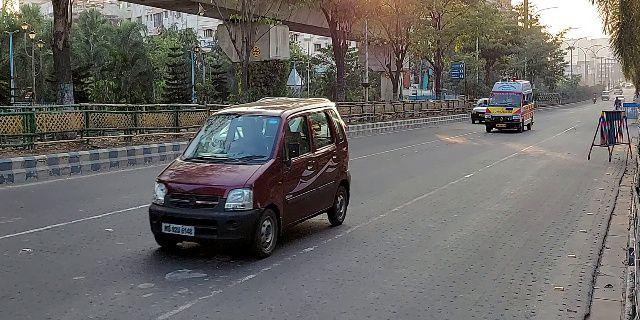Car: (143, 92, 354, 265), (467, 95, 487, 127)
Van: (485, 78, 538, 132)
